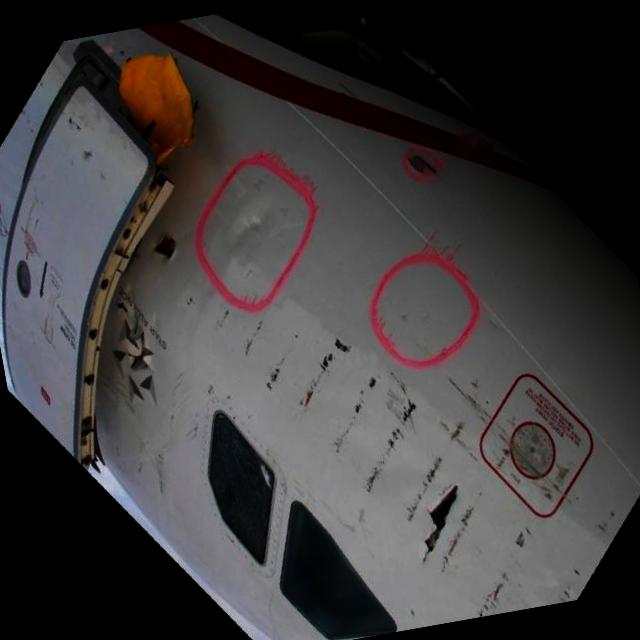crack: (408, 482, 474, 567), (142, 229, 180, 267)
dent: (220, 204, 277, 265)
